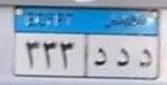3: (59, 37, 75, 71), (42, 37, 58, 71), (24, 38, 40, 69)
daal: (91, 44, 109, 70), (115, 46, 131, 69), (139, 48, 154, 71)
